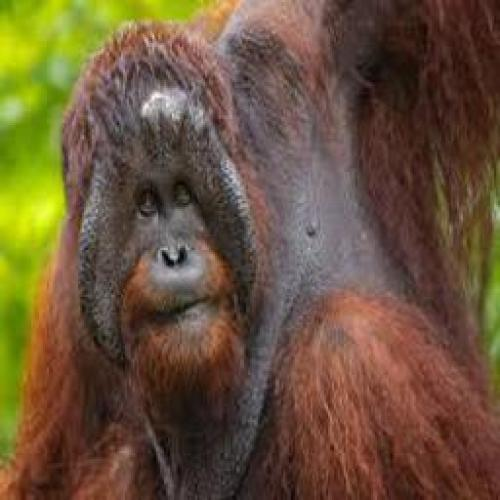orangutan-endangered: (30, 0, 500, 489)
